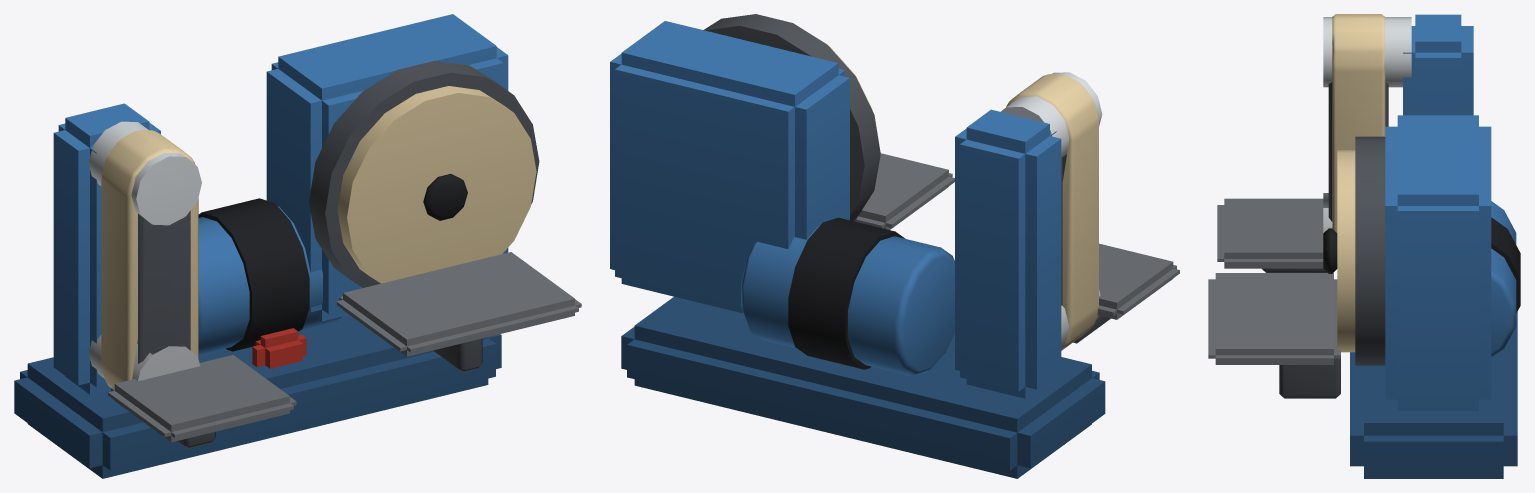
File: SM_BeltSander_Bench_01.glb
3 renders of one model, left to right at view 1: azimuth 30°, elevation 25°; view 2: azimuth 150°, elevation 25°; view 3: azimuth 270°, elevation 25°, orthographic. The views are drawn at different scales.
Parts seen in each view (by area): view 1: SM_BeltSander_Bench_01; view 2: SM_BeltSander_Bench_01; view 3: SM_BeltSander_Bench_01.
Boxes of the visible parts, <box> form: SM_BeltSander_Bench_01: <box>14,14,581,478</box>; SM_BeltSander_Bench_01: <box>610,14,1179,478</box>; SM_BeltSander_Bench_01: <box>1208,14,1520,478</box>.
Bounding box in the file's own units: 0.54 × 0.383 × 0.3531.
1 material, 1 textured.
